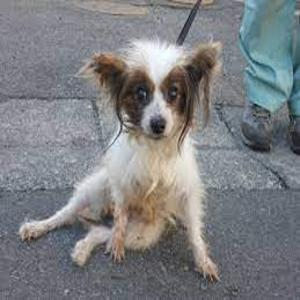yell: (18, 39, 224, 279)
